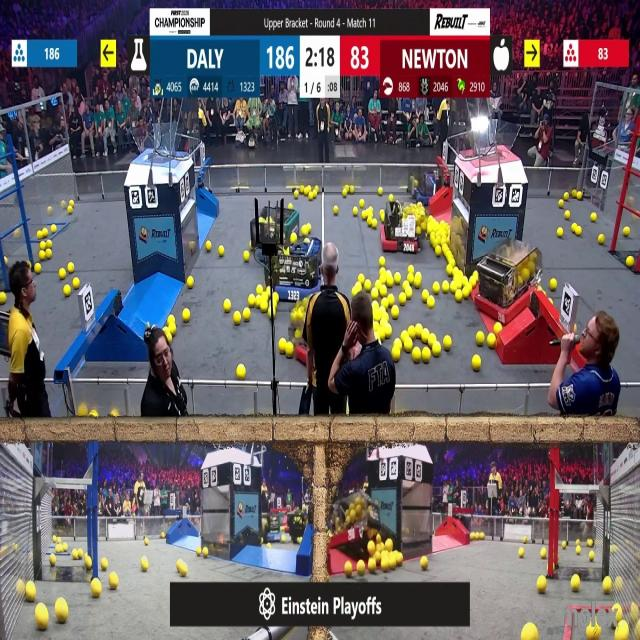ball_ground: (36, 605, 49, 632), (27, 583, 37, 602), (92, 580, 102, 598), (570, 577, 580, 593), (421, 348, 431, 363), (178, 561, 188, 576), (237, 363, 246, 379), (537, 578, 546, 594), (109, 572, 118, 588), (431, 344, 441, 357), (603, 578, 611, 594), (182, 562, 190, 578), (471, 356, 480, 370), (392, 347, 401, 361), (488, 335, 496, 349), (414, 274, 422, 288), (366, 540, 374, 554), (413, 348, 421, 362), (346, 562, 354, 576), (477, 333, 485, 347), (367, 559, 375, 573), (278, 341, 286, 354), (77, 407, 86, 418), (385, 538, 394, 549), (244, 308, 251, 322), (141, 558, 148, 572), (384, 325, 392, 337), (627, 255, 635, 267), (391, 307, 399, 319), (234, 312, 242, 324), (182, 309, 189, 322), (421, 557, 428, 570), (86, 558, 94, 569), (303, 223, 311, 234), (223, 301, 230, 313), (73, 278, 80, 290), (248, 294, 255, 306), (462, 287, 469, 299), (415, 325, 422, 337), (370, 288, 378, 298), (433, 281, 439, 294), (398, 293, 405, 304), (551, 279, 557, 291), (0, 291, 6, 303), (102, 558, 108, 570), (444, 281, 450, 293), (455, 290, 462, 300), (494, 322, 501, 332), (44, 249, 51, 259), (65, 285, 71, 296), (187, 277, 193, 288), (409, 326, 415, 337), (49, 555, 55, 566), (428, 296, 434, 307), (407, 288, 413, 299), (39, 241, 46, 250), (380, 256, 386, 266), (35, 264, 41, 274), (218, 246, 224, 256), (61, 270, 67, 280), (244, 251, 250, 261), (186, 310, 192, 320), (435, 246, 441, 256), (394, 274, 400, 284), (68, 264, 74, 274), (204, 548, 210, 558), (388, 275, 393, 286), (256, 285, 262, 294), (375, 280, 381, 289), (206, 242, 212, 251), (294, 329, 300, 338), (598, 236, 604, 245), (592, 212, 597, 222), (575, 225, 580, 235), (409, 266, 415, 274), (45, 240, 51, 248), (50, 224, 56, 232), (558, 200, 564, 208), (571, 223, 576, 232), (72, 551, 77, 560), (353, 208, 358, 216), (296, 536, 301, 544), (576, 190, 581, 198), (520, 549, 524, 558), (518, 551, 524, 557), (359, 201, 364, 208), (566, 212, 571, 219), (68, 207, 73, 214), (309, 194, 313, 202), (524, 536, 528, 543), (562, 540, 566, 547), (144, 538, 148, 544), (473, 536, 476, 541)
goal: (466, 121, 520, 159), (130, 131, 187, 160)
robot_blue: (265, 235, 325, 296), (255, 208, 299, 256), (409, 170, 442, 203), (262, 513, 288, 543)
robot_red: (474, 236, 542, 327), (333, 492, 381, 542), (382, 194, 423, 252)
